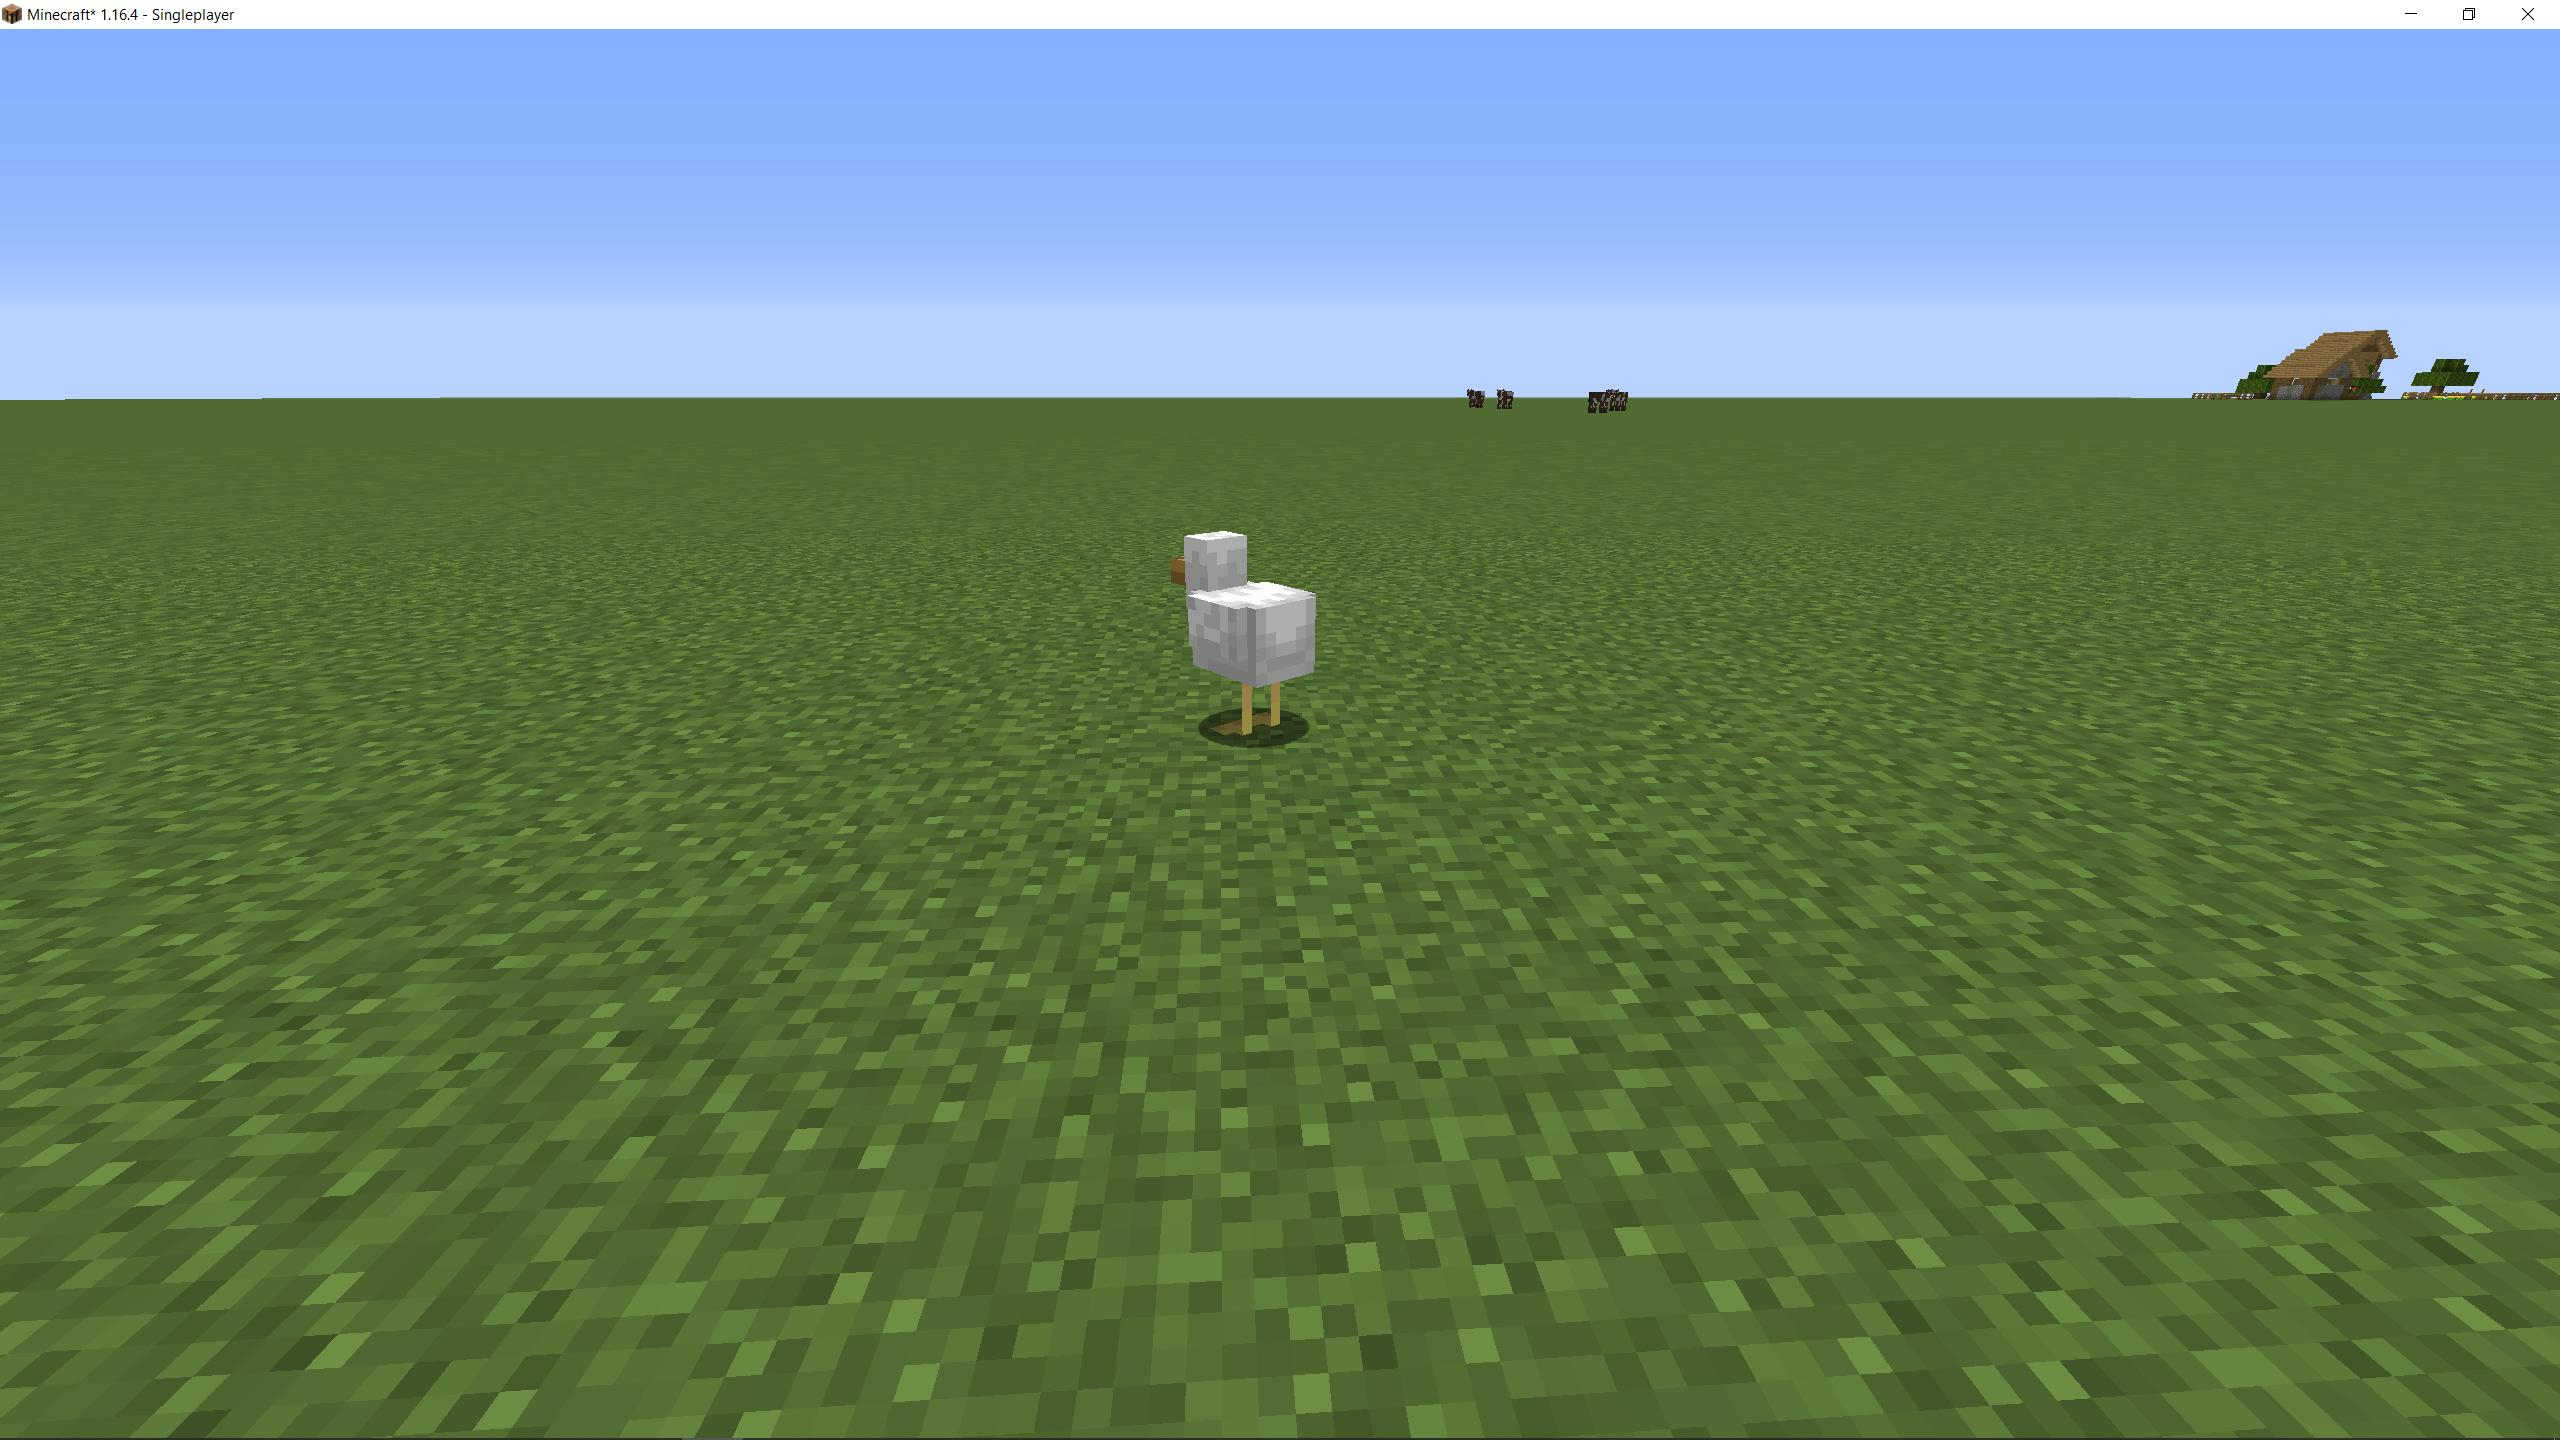chicken: (1164, 520, 1326, 747)
